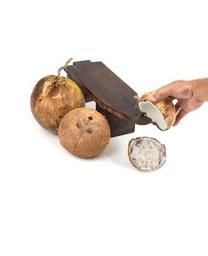coconut: (29, 75, 85, 136), (57, 106, 111, 159), (138, 91, 177, 130), (128, 137, 167, 172)
